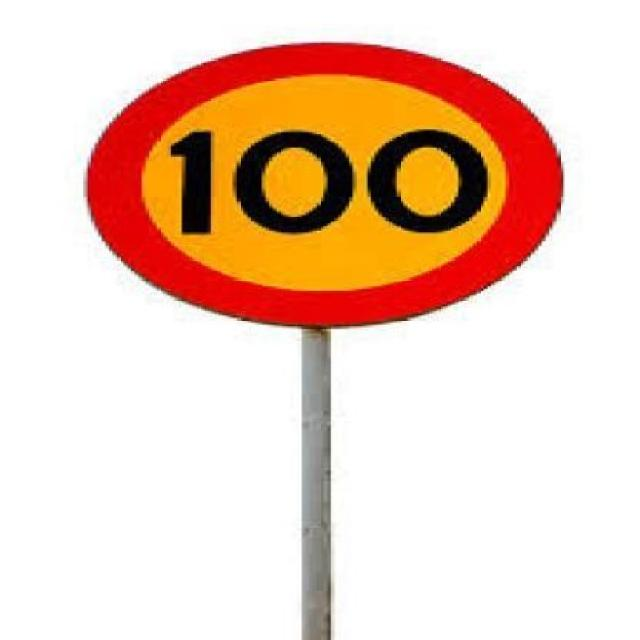forb_speed_over_100: (98, 42, 556, 321)
